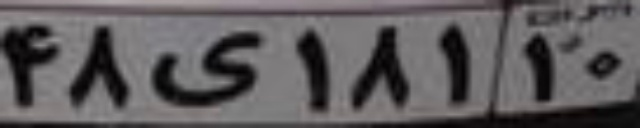0: (582, 51, 623, 80)
1: (294, 30, 332, 109), (438, 23, 472, 102), (518, 31, 554, 101)
4: (1, 24, 57, 106)
8: (65, 25, 132, 108), (348, 25, 410, 108)
ye: (150, 29, 262, 108)
